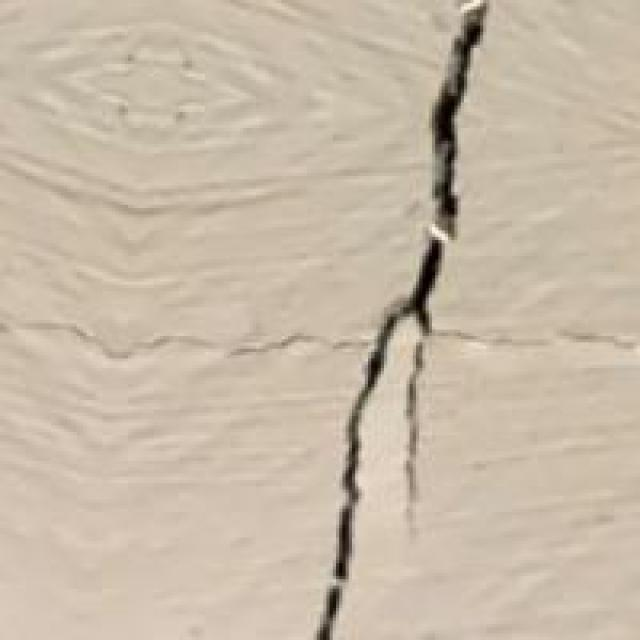Crack: (250, 0, 524, 637)
